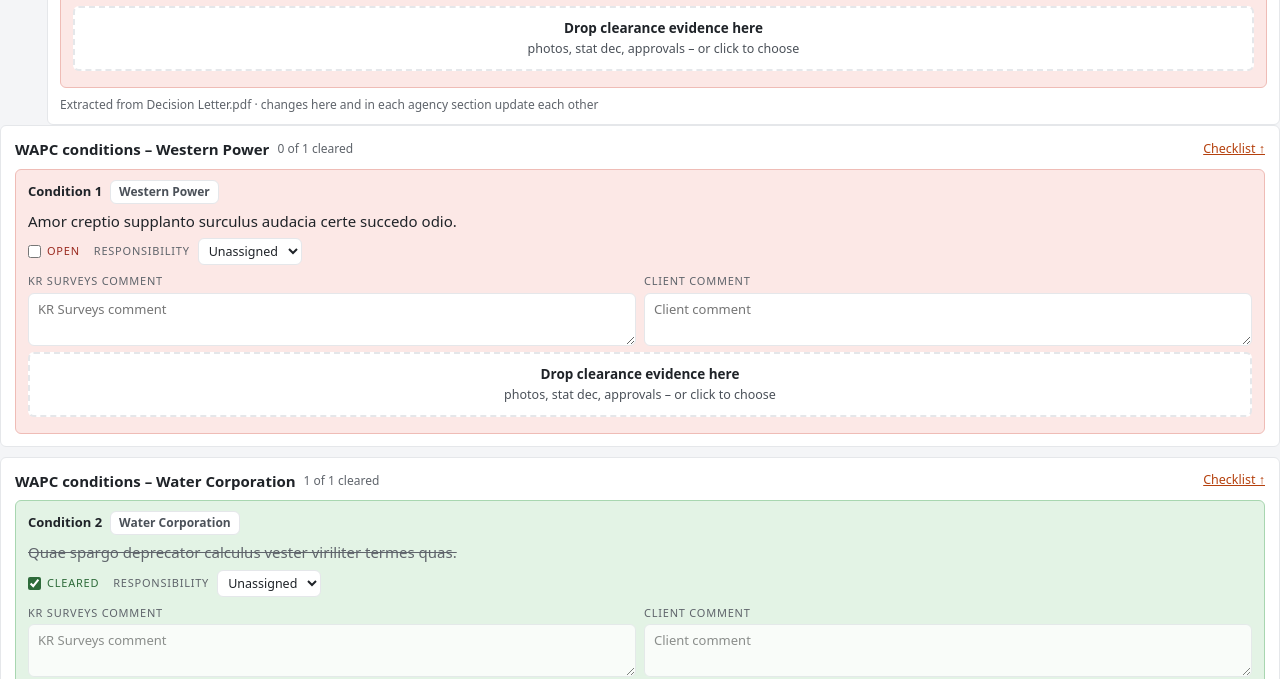
Test: AgencyConditions › shows a comment typed in one place in the other once it is saved
(page scrolled)
Type "Sent" into the 2nd text box with placeholder "Client comment".
click(948, 319); type("Sent")  # box [644,292,1252,346]
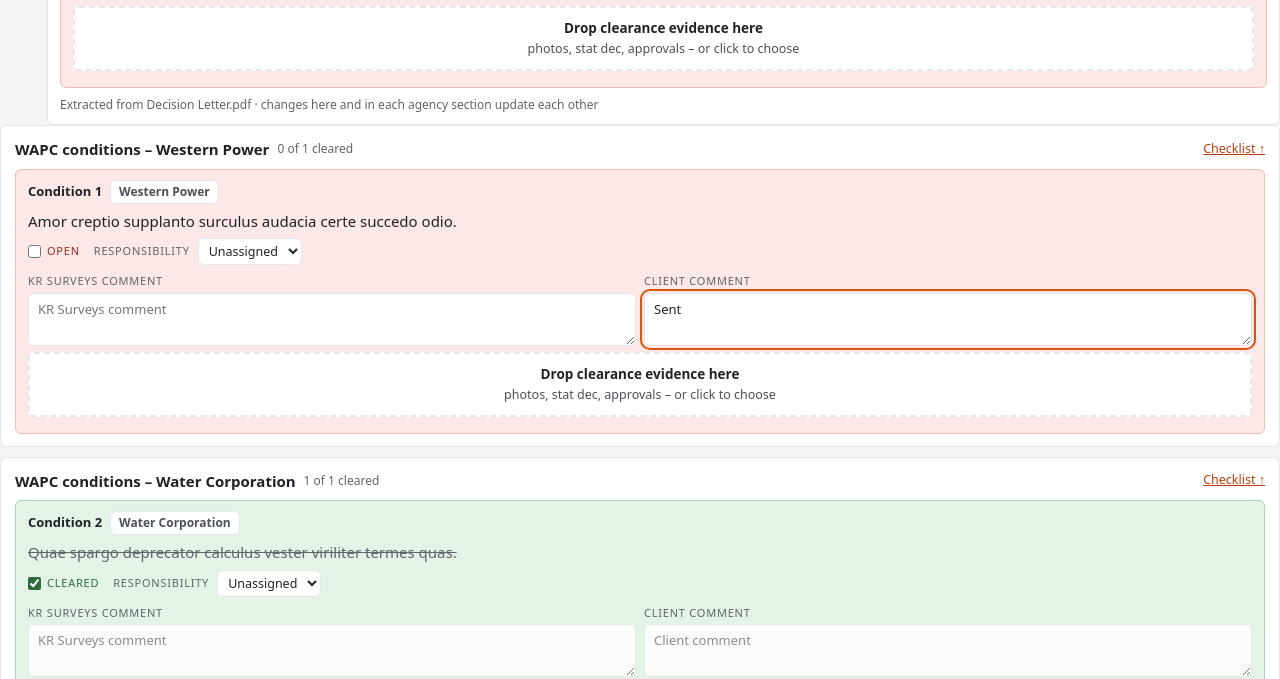
Press Tab
(page scrolled)
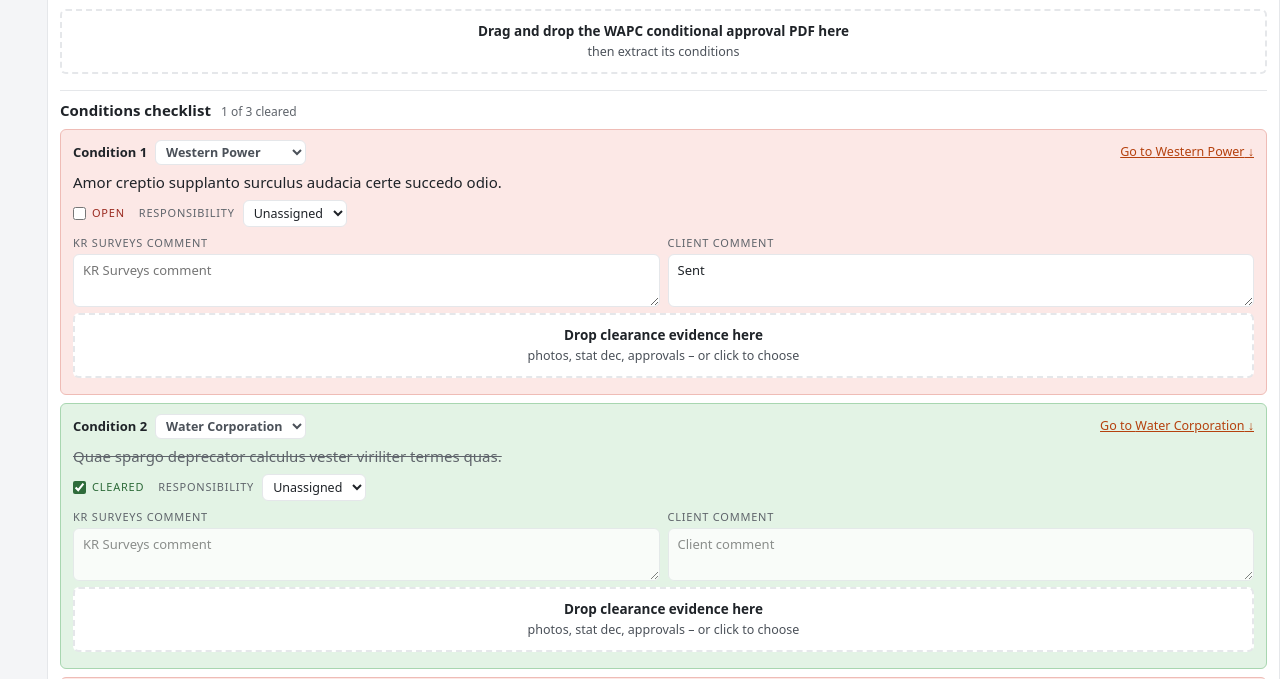
expect the text box named "Client comment – condition 1" holds "Sent": met, box [668,254,1254,307]
